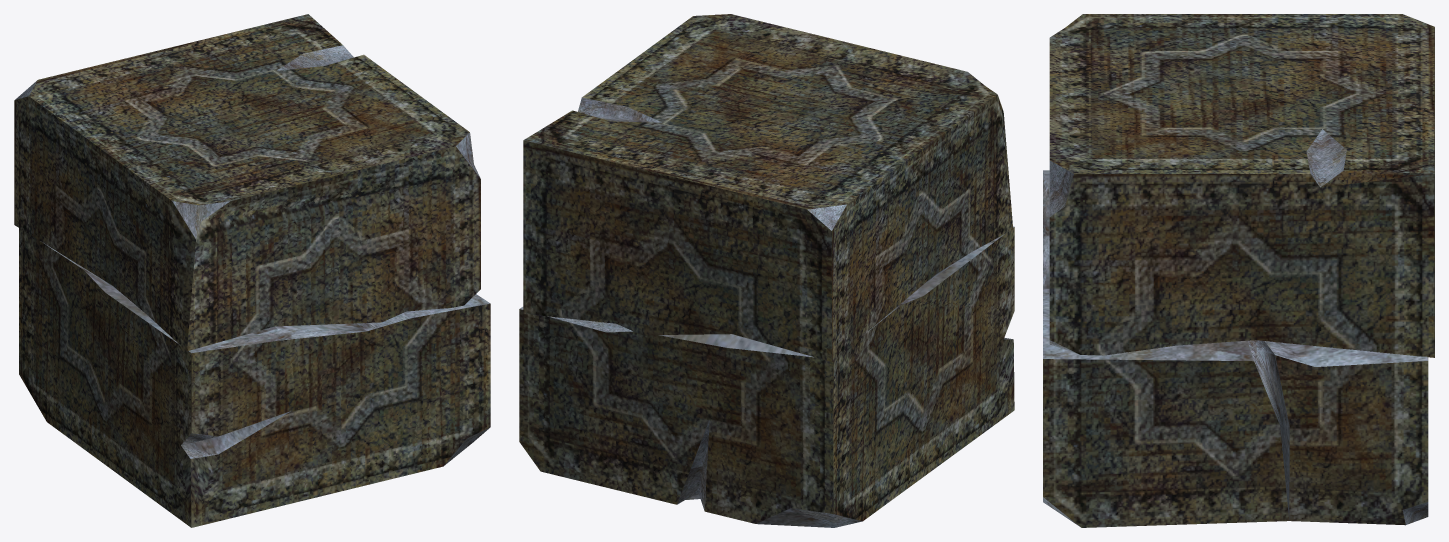
The model's file is StoneContainer.gltf.
3 renders of one model, left to right at view 1: azimuth 30°, elevation 25°; view 2: azimuth 150°, elevation 25°; view 3: azimuth 270°, elevation 25°, orthographic. The views are drawn at different scales.
Visible parts, largest first — view 1: StoneContainerMesh; view 2: StoneContainerMesh; view 3: StoneContainerMesh.
Boxes of the visible parts, left/top/right/bottom form: StoneContainerMesh: left=14, top=14, right=490, bottom=527; StoneContainerMesh: left=519, top=14, right=1014, bottom=527; StoneContainerMesh: left=1043, top=14, right=1434, bottom=527.
Size of the model in its own units: 2.01 by 2.01 by 2.03.
Materials: 2 (2 with a texture image).
